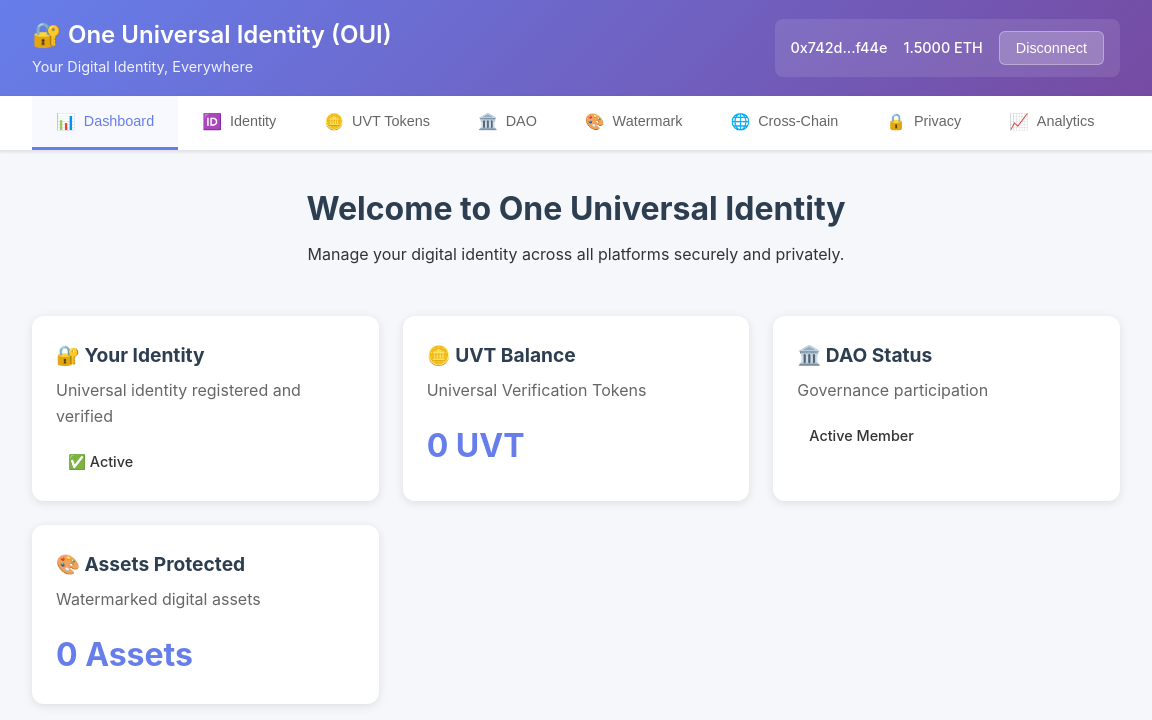
Test: App Component › handles different tab navigation patterns
// Test navigation to UVT tab
Click the text "UVT Tokens". click: point(391, 122)
box: 352,114 -> 430,130
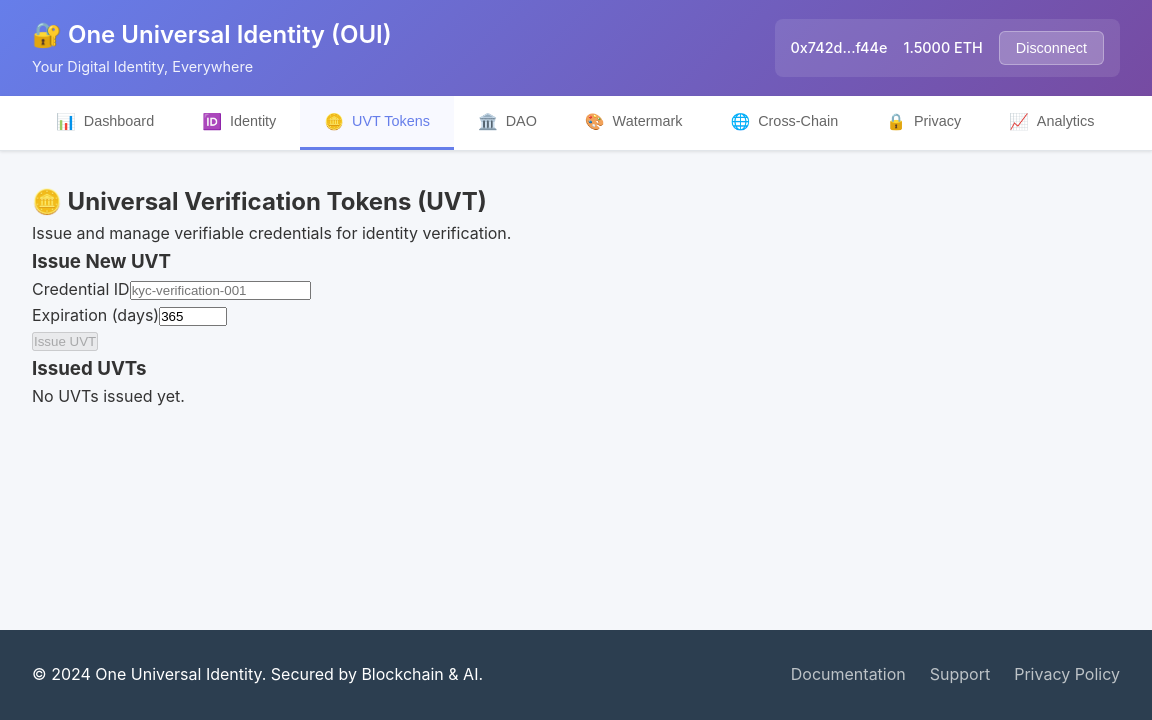
Check: the heading "🪙 Universal Verification Tokens (UVT)" is shown, box 32,187 -> 487,216
// Test navigation back to dashboard
Click the text "Dashboard". click: point(119, 122)
box: 84,114 -> 154,130
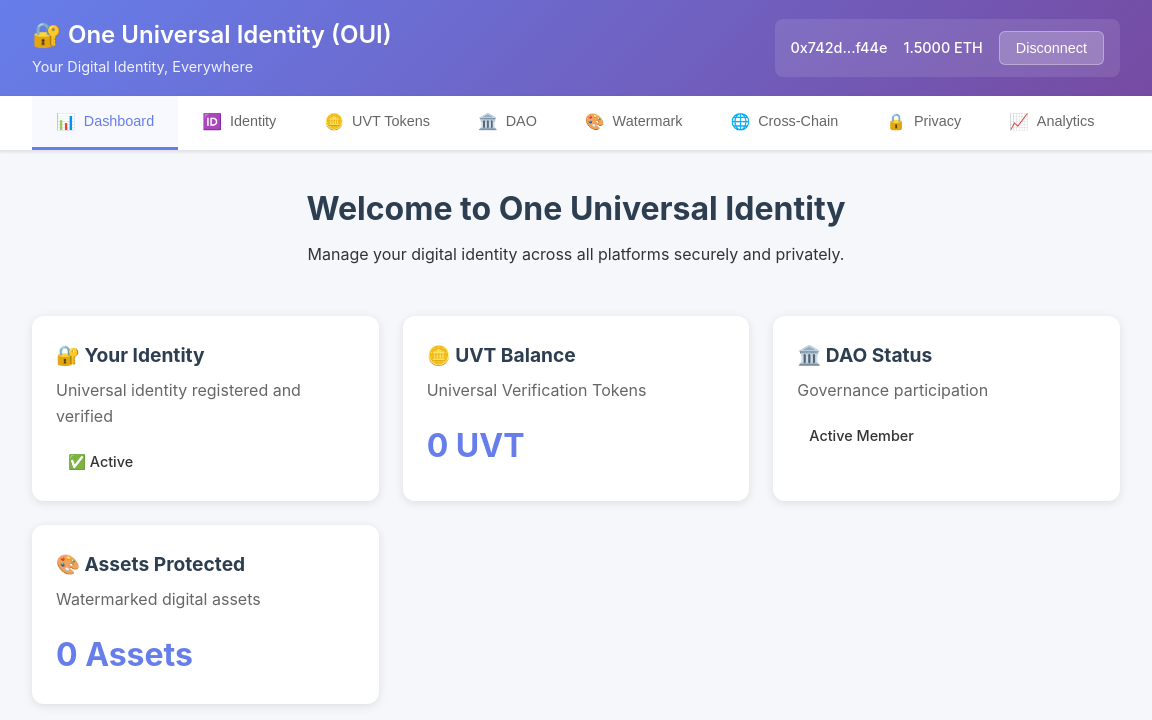
Check: the heading "Welcome to One Universal Identity" is shown, box 306,189 -> 846,228
